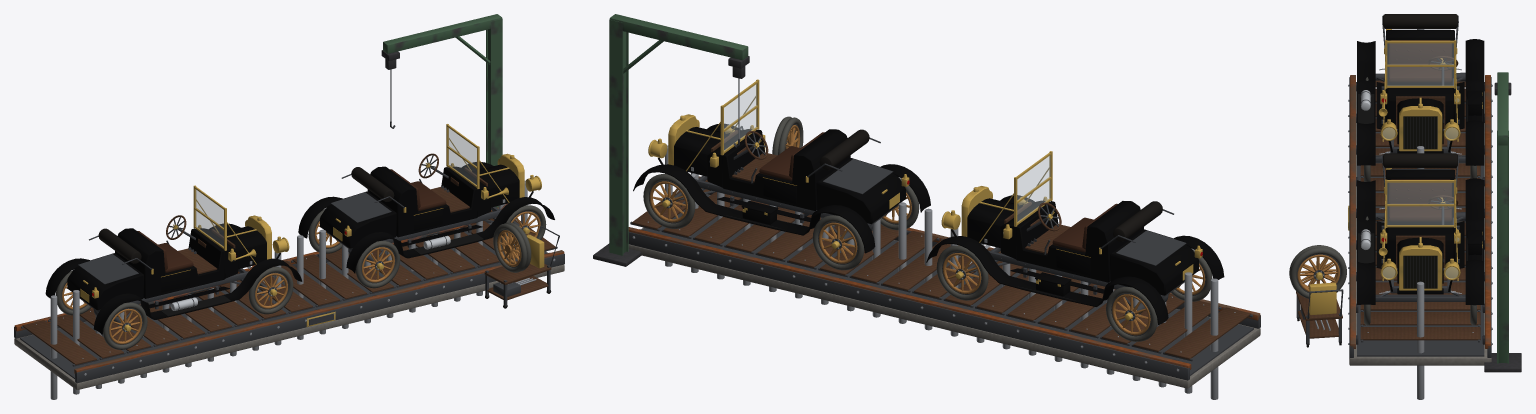
Rendered from ford_model_t.glb.
3 views of the same model, side by side, from view 1: azimuth 30°, elevation 25°; view 2: azimuth 150°, elevation 25°; view 3: azimuth 270°, elevation 25° (orthographic). The views are drawn at different scales.
Visible parts, largest first — view 1: ford_model_t_static, belt_static, wipBody_static, body_static, c_chassis_static, w_chassis_static, partsCart_static, body_windshield_static, wipBody_windshield_static, c_wheel2_static, w_wheel2_static, tWheel_static (+5 smaller); view 2: ford_model_t_static, belt_static, wipBody_static, body_static, w_chassis_static, c_chassis_static, body_windshield_static, wipBody_windshield_static, w_wheel3_static, c_wheel3_static, c_wheel1_static, w_wheel1_static (+6 smaller); view 3: ford_model_t_static, w_chassis_static, c_chassis_static, belt_static, wipBody_static, body_static, body_windshield_static, wipBody_windshield_static, partsCart_static, spareWheel1_static, roller21, spareWheel0_static (+6 smaller).
Part boxes in pixels (bbox=[...]): ford_model_t_static: bbox=[14, 14, 564, 389]; belt_static: bbox=[21, 211, 557, 366]; wipBody_static: bbox=[320, 163, 519, 248]; body_static: bbox=[67, 225, 266, 309]; c_chassis_static: bbox=[45, 215, 302, 335]; w_chassis_static: bbox=[298, 153, 554, 273]; partsCart_static: bbox=[484, 226, 559, 308]; body_windshield_static: bbox=[193, 185, 256, 264]; wipBody_windshield_static: bbox=[446, 124, 509, 202]; c_wheel2_static: bbox=[103, 302, 147, 349]; w_wheel2_static: bbox=[355, 241, 400, 288]; tWheel_static: bbox=[248, 267, 293, 314]; ford_model_t_static: bbox=[593, 14, 1260, 388]; belt_static: bbox=[630, 180, 1252, 361]; wipBody_static: bbox=[674, 125, 905, 224]; body_static: bbox=[967, 196, 1198, 295]; w_chassis_static: bbox=[633, 114, 930, 253]; c_chassis_static: bbox=[926, 186, 1224, 324]; body_windshield_static: bbox=[979, 151, 1052, 242]; wipBody_windshield_static: bbox=[686, 79, 759, 171]; w_wheel3_static: bbox=[812, 215, 864, 270]; c_wheel3_static: bbox=[1106, 287, 1157, 341]; c_wheel1_static: bbox=[936, 245, 988, 300]; w_wheel1_static: bbox=[643, 174, 695, 228]; ford_model_t_static: bbox=[1348, 72, 1521, 372]; w_chassis_static: bbox=[1357, 178, 1484, 305]; c_chassis_static: bbox=[1357, 39, 1484, 165]; belt_static: bbox=[1360, 80, 1480, 342]; wipBody_static: bbox=[1378, 153, 1460, 283]; body_static: bbox=[1378, 14, 1460, 144]; body_windshield_static: bbox=[1382, 40, 1458, 141]; wipBody_windshield_static: bbox=[1382, 179, 1458, 281]; partsCart_static: bbox=[1296, 282, 1343, 347]; spareWheel1_static: bbox=[1290, 247, 1346, 298]; roller21: bbox=[1417, 281, 1424, 399]; spareWheel0_static: bbox=[1289, 245, 1344, 288].
Size of the model in its own units: 8.7 by 3.97 by 3.1.
24 materials, 10 textured.
